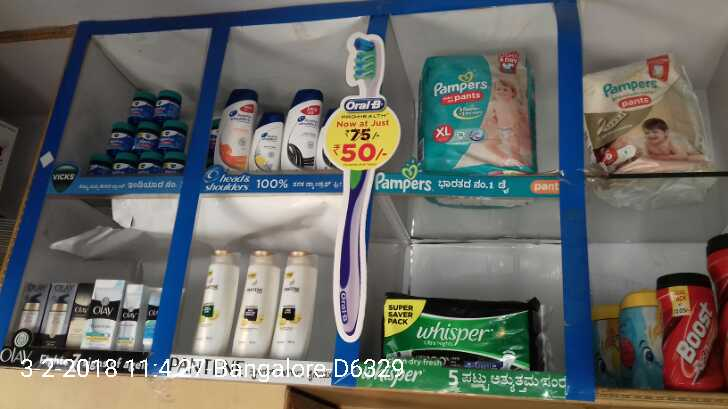beauty: (277, 249, 319, 362), (194, 242, 234, 360), (239, 240, 276, 354), (281, 87, 319, 173), (217, 82, 252, 175), (87, 265, 116, 349), (117, 276, 142, 351), (254, 110, 280, 172)
pharmacy: (550, 52, 709, 182), (371, 275, 552, 375), (418, 33, 535, 183), (103, 119, 138, 155), (154, 87, 184, 124), (156, 125, 187, 154), (126, 91, 147, 126), (134, 119, 152, 154)
